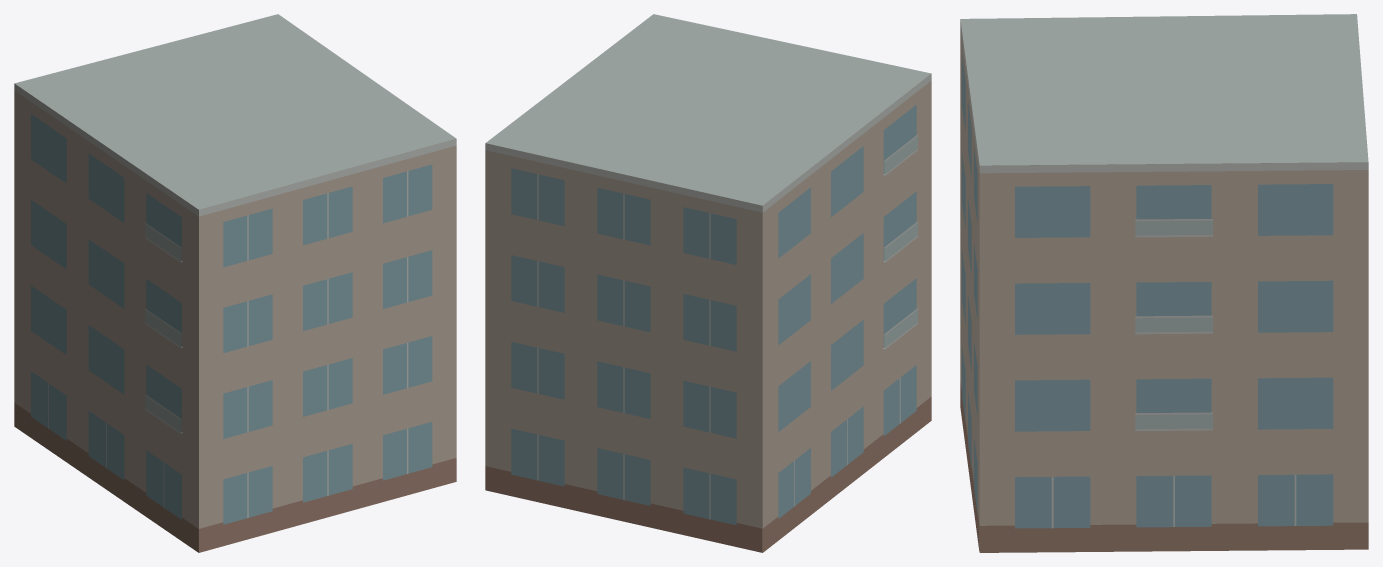
The model's file is survey-upis-32668292.glb.
The picture shows the model from 3 angles, left to right: view 1: azimuth 30°, elevation 25°; view 2: azimuth 150°, elevation 25°; view 3: azimuth 270°, elevation 25°; orthographic projection. The views are drawn at different scales.
Visible parts, largest first — view 1: survey-upis-32668292.tmp; view 2: survey-upis-32668292.tmp; view 3: survey-upis-32668292.tmp.
Boxes of the visible parts, x1,y1,x2,y2 form: survey-upis-32668292.tmp: [14, 14, 456, 552]; survey-upis-32668292.tmp: [485, 14, 931, 552]; survey-upis-32668292.tmp: [960, 14, 1368, 552].
Bounding box in the file's own units: 10.25 × 12.2 × 11.66.
